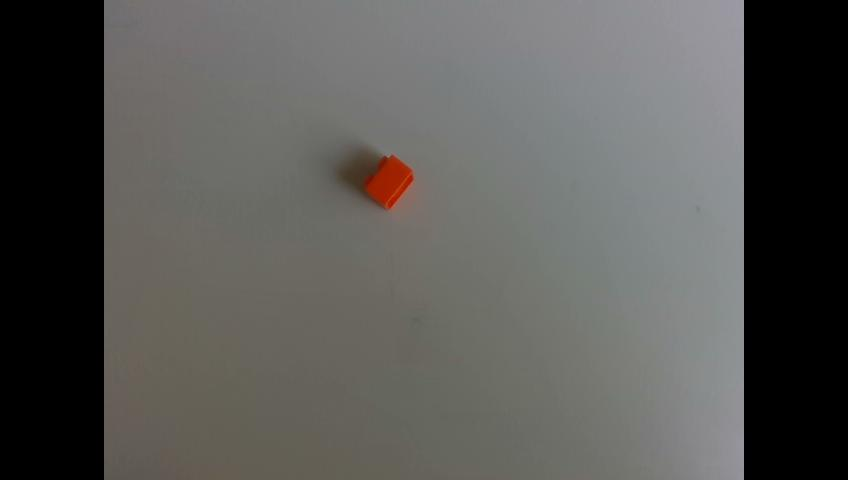2x2_orange: (365, 155, 414, 207)
